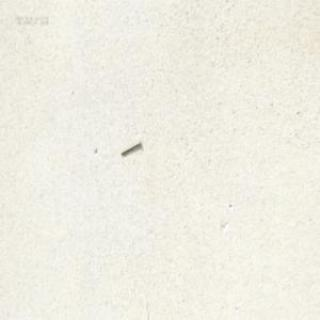Bolttrack_idkeyframe: (119, 138, 140, 156)
